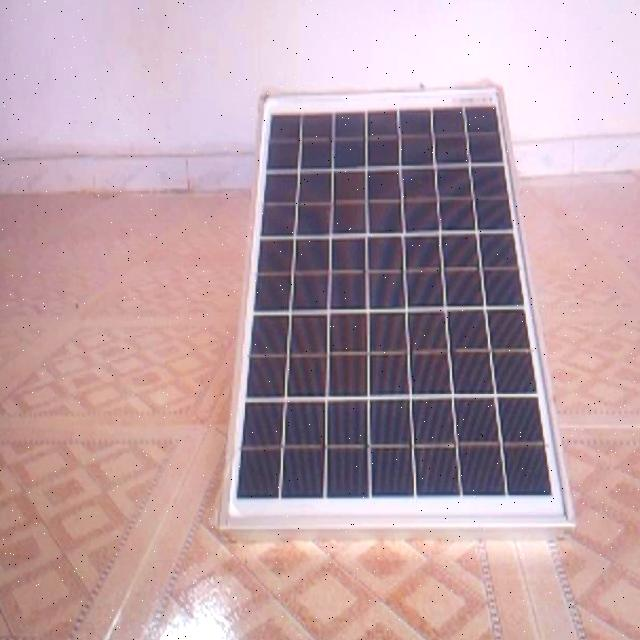Normal Solar Panel: (220, 84, 576, 540)
